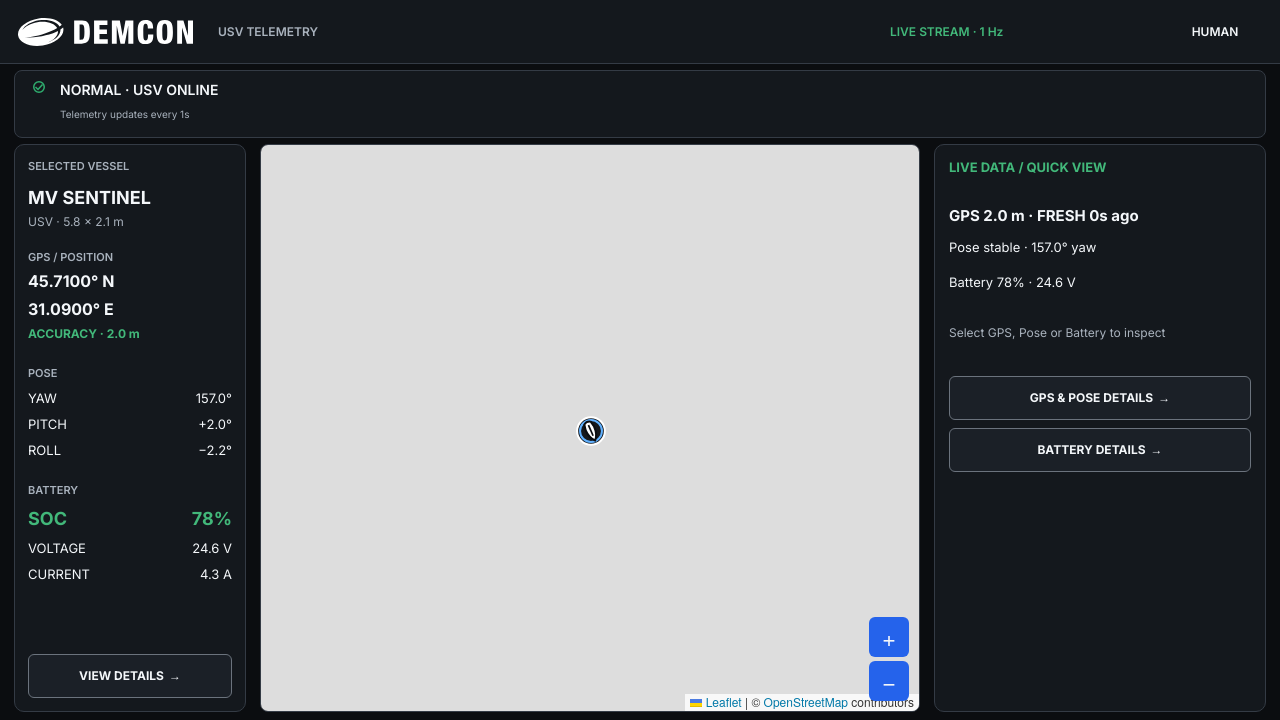
Test: USVMonitoring › keeps the application title visible across connection and telemetry states
Expected: the text "USV TELEMETRY" is shown, [218,24,318,39]
Select "GPS ADVISORY" in the dropdown named "Telemetry mode" at (1005, 32), box [890,23,1120,40]
Wait 4000 ms
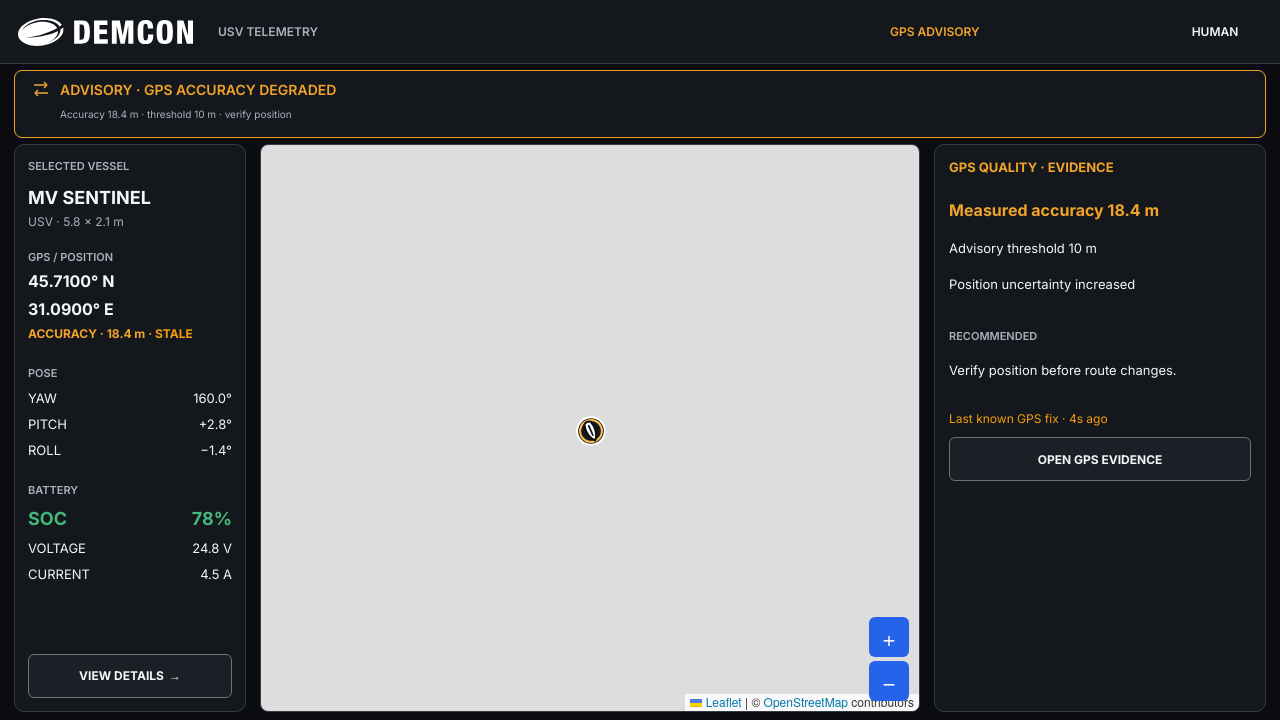
Expected: the text "USV TELEMETRY" is shown, [218,24,318,39]
Expected: the element named "GPS position" shows "STALE", [145,326,193,341]
Select "BATTERY CRITICAL" in the dropdown named "Telemetry mode" at (1005, 32), box [890,23,1120,40]
Wait 1000 ms
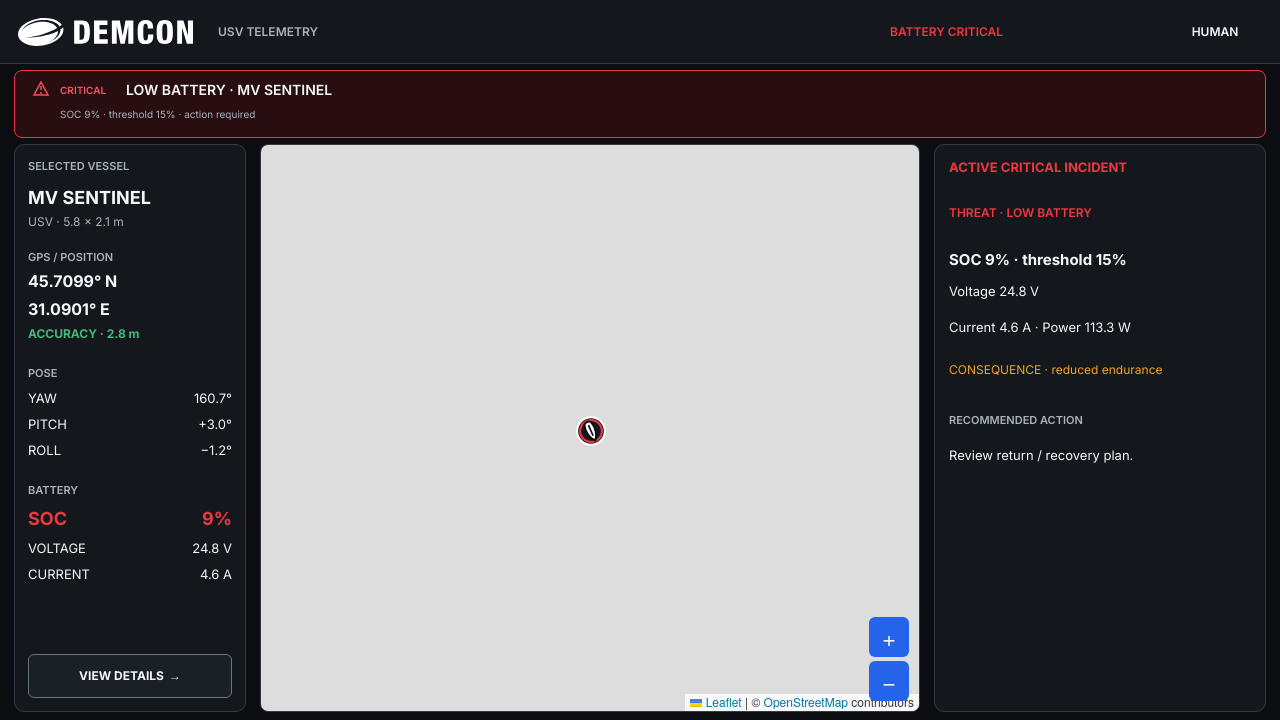
Expected: the text "USV TELEMETRY" is shown, [218,24,318,39]
Select "DISCONNECTED" in the dropdown named "Telemetry mode" at (1005, 32), box [890,23,1120,40]
Wait 3001 ms
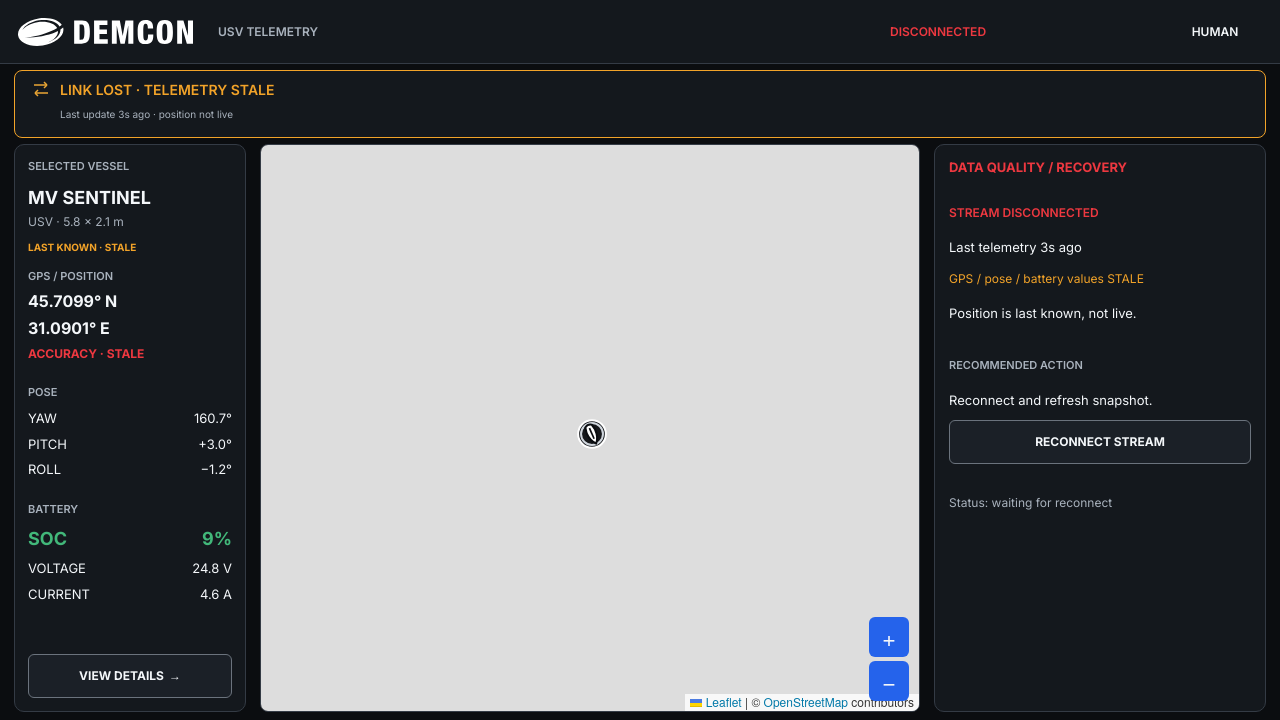
Expected: the text "USV TELEMETRY" is shown, [218,24,318,39]
Expected: the heading "LINK LOST · TELEMETRY STALE" is shown, [60,81,274,98]
